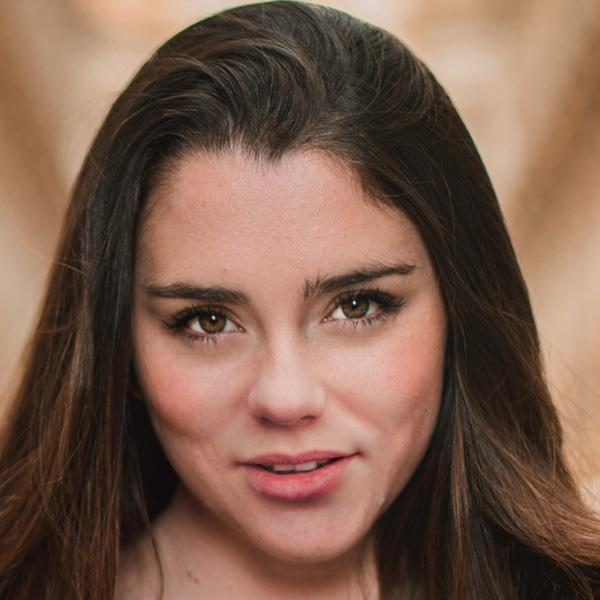Eyes: (156, 291, 257, 351), (308, 282, 407, 333)
